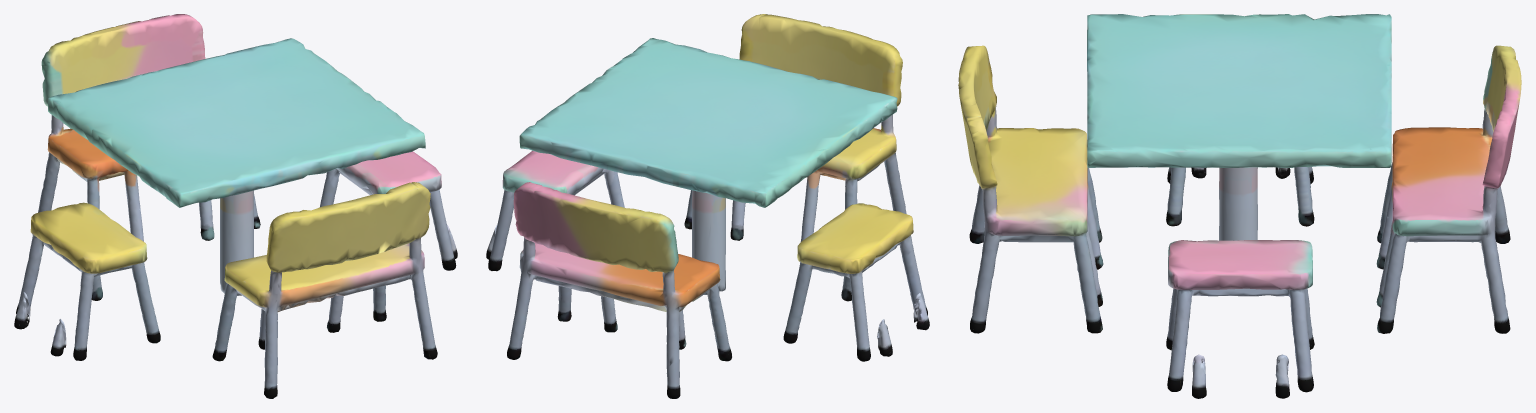
Rendered from cafeteria_table.glb.
3 renders of one model, left to right at view 1: azimuth 30°, elevation 25°; view 2: azimuth 150°, elevation 25°; view 3: azimuth 270°, elevation 25°, orthographic. The views are drawn at different scales.
Parts seen in each view (by area): view 1: model; view 2: model; view 3: model.
Boxes of the visible parts, x1,y1,x2,y2 form: model: (14,14,457,398); model: (486,14,929,398); model: (958,14,1521,398).
Bounding box in the file's own units: 1.81 × 0.7646 × 1.9.
Materials: 1 (1 with a texture image).
